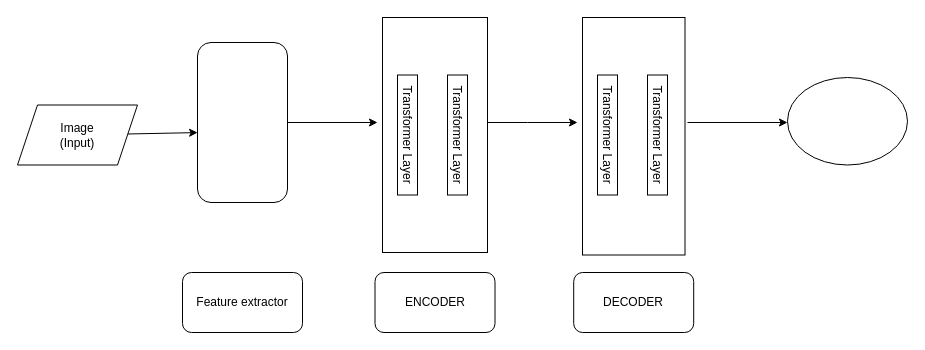
This 925x350 diagram has some shape labels left out. Each missing label, with the box of its shape:
Captions (Output): (786, 76, 908, 165)
EfficientNetB0: (196, 42, 288, 202)
